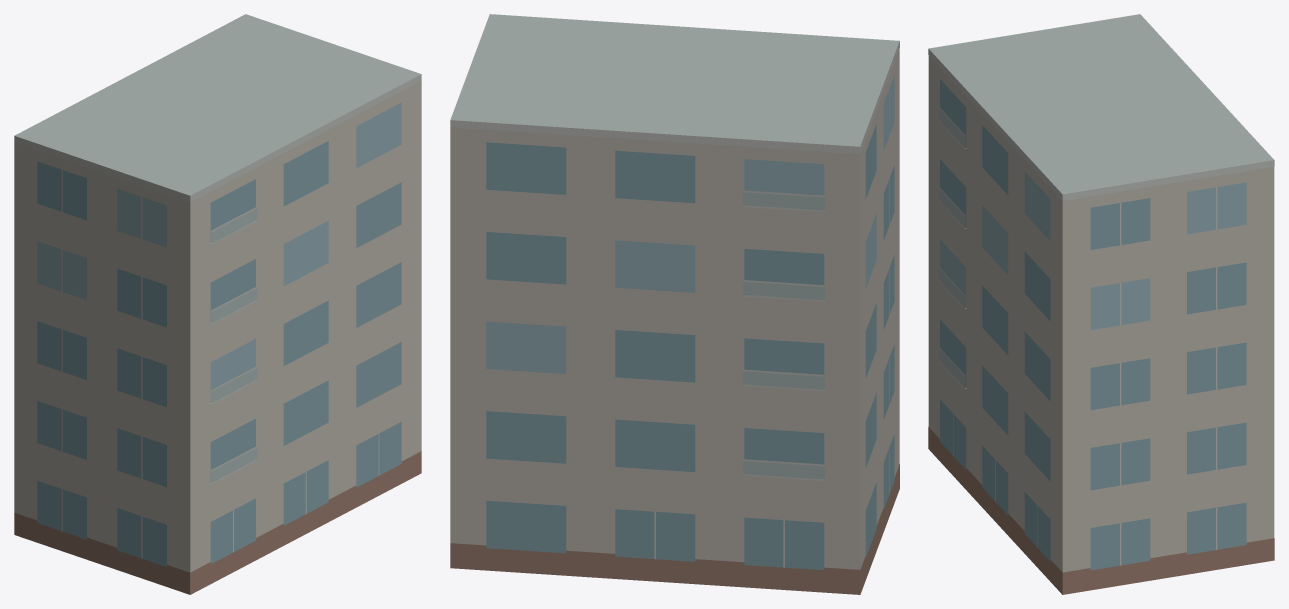
Rendered from survey-upis-32690461.glb.
3 views of the same model, side by side, from view 1: azimuth 30°, elevation 25°; view 2: azimuth 150°, elevation 25°; view 3: azimuth 270°, elevation 25° (orthographic). The views are drawn at different scales.
Visible parts, largest first — view 1: survey-upis-32690461.tmp; view 2: survey-upis-32690461.tmp; view 3: survey-upis-32690461.tmp.
Part boxes in pixels (x1,y1,x2,y2): survey-upis-32690461.tmp: (14,14,421,594); survey-upis-32690461.tmp: (450,14,899,594); survey-upis-32690461.tmp: (928,14,1274,594).
Size of the model in its own units: 14.41 by 14.9 by 11.68.
